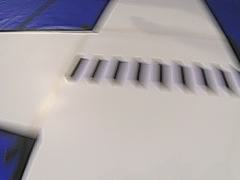CrossWalk: (55, 50, 240, 99)
